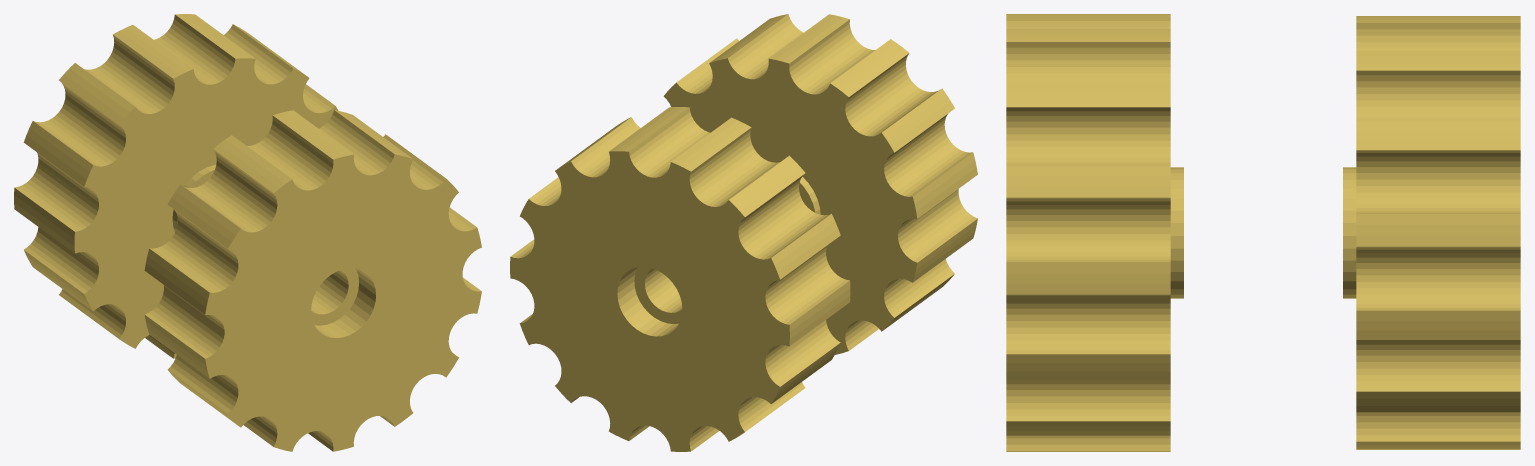
The model's file is locas_fr.dae.
The picture shows the model from 3 angles, left to right: view 1: azimuth 30°, elevation 25°; view 2: azimuth 150°, elevation 25°; view 3: azimuth 270°, elevation 25°; orthographic projection. The views are drawn at different scales.
Visible parts, largest first — view 1: nodo; view 2: nodo; view 3: nodo.
Boxes of the visible parts, x1,y1,x2,y2 form: nodo: (14, 14, 481, 451); nodo: (510, 14, 977, 451); nodo: (1006, 14, 1520, 451).
Bounding box in the file's own units: 0.0666 × 0.0782 × 0.0666.
